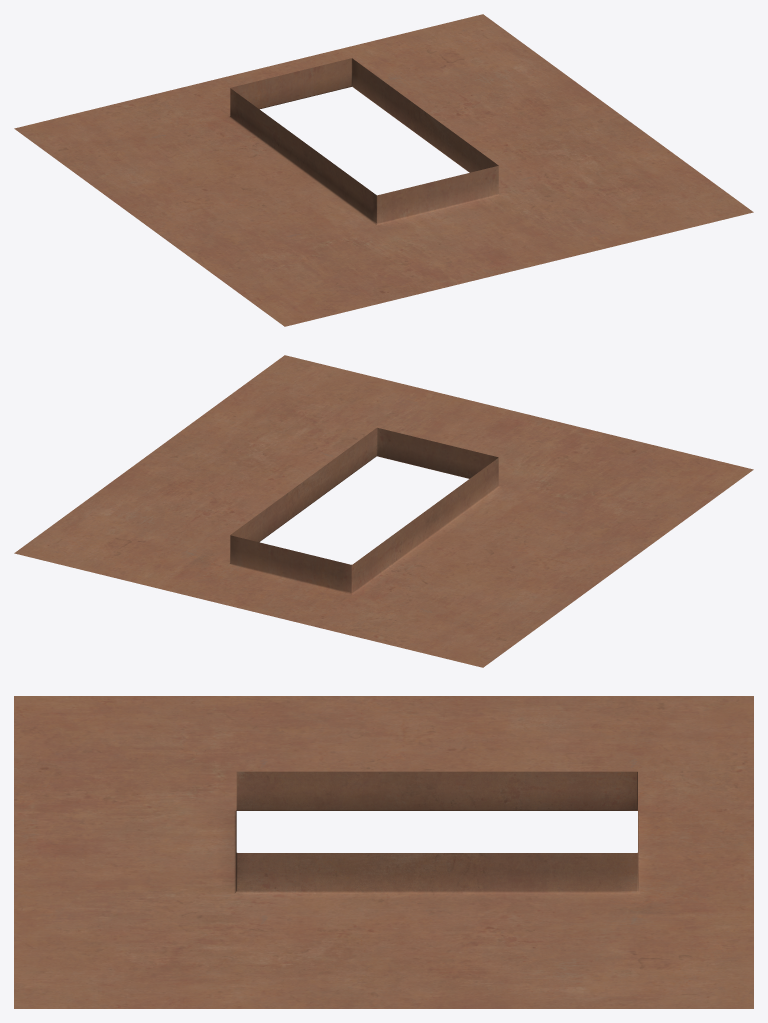
Rendered from wall_window_centered_small_03.gltf.
The picture shows the model from 3 angles, top to bottom: view 1: azimuth 30°, elevation 25°; view 2: azimuth 150°, elevation 25°; view 3: azimuth 270°, elevation 25°; orthographic projection. The views are drawn at different scales.
Visible parts, largest first — view 1: wall_window_centered_small_03; view 2: wall_window_centered_small_03; view 3: wall_window_centered_small_03.
Part boxes in pixels (bbox=[...]): wall_window_centered_small_03: bbox=[14, 14, 753, 326]; wall_window_centered_small_03: bbox=[14, 355, 753, 667]; wall_window_centered_small_03: bbox=[14, 696, 753, 1008].
Size of the model in its own units: 3 by 0.18 by 3.
Materials: 1 (1 with a texture image).
